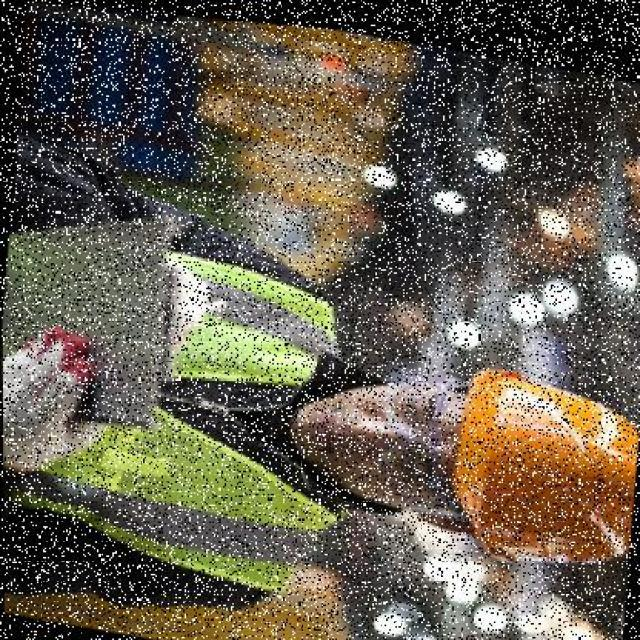helmet: (434, 331, 638, 595)
vest: (2, 209, 347, 605)
